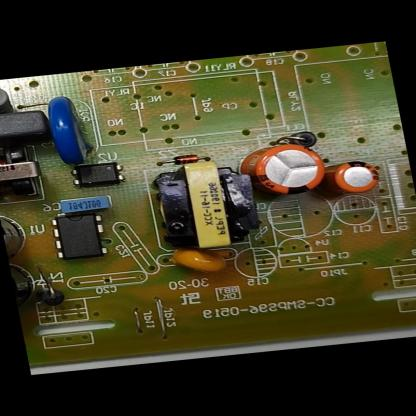Cap1: (228, 133, 336, 206)
Cap2: (324, 156, 385, 200)
Cap3: (0, 204, 39, 268)
Cap4: (8, 254, 51, 319)
MOSFET: (46, 207, 114, 263)
Mov: (38, 90, 100, 172)
Resistor: (0, 78, 22, 115)
Transformer: (148, 154, 263, 256), (0, 139, 51, 205)
